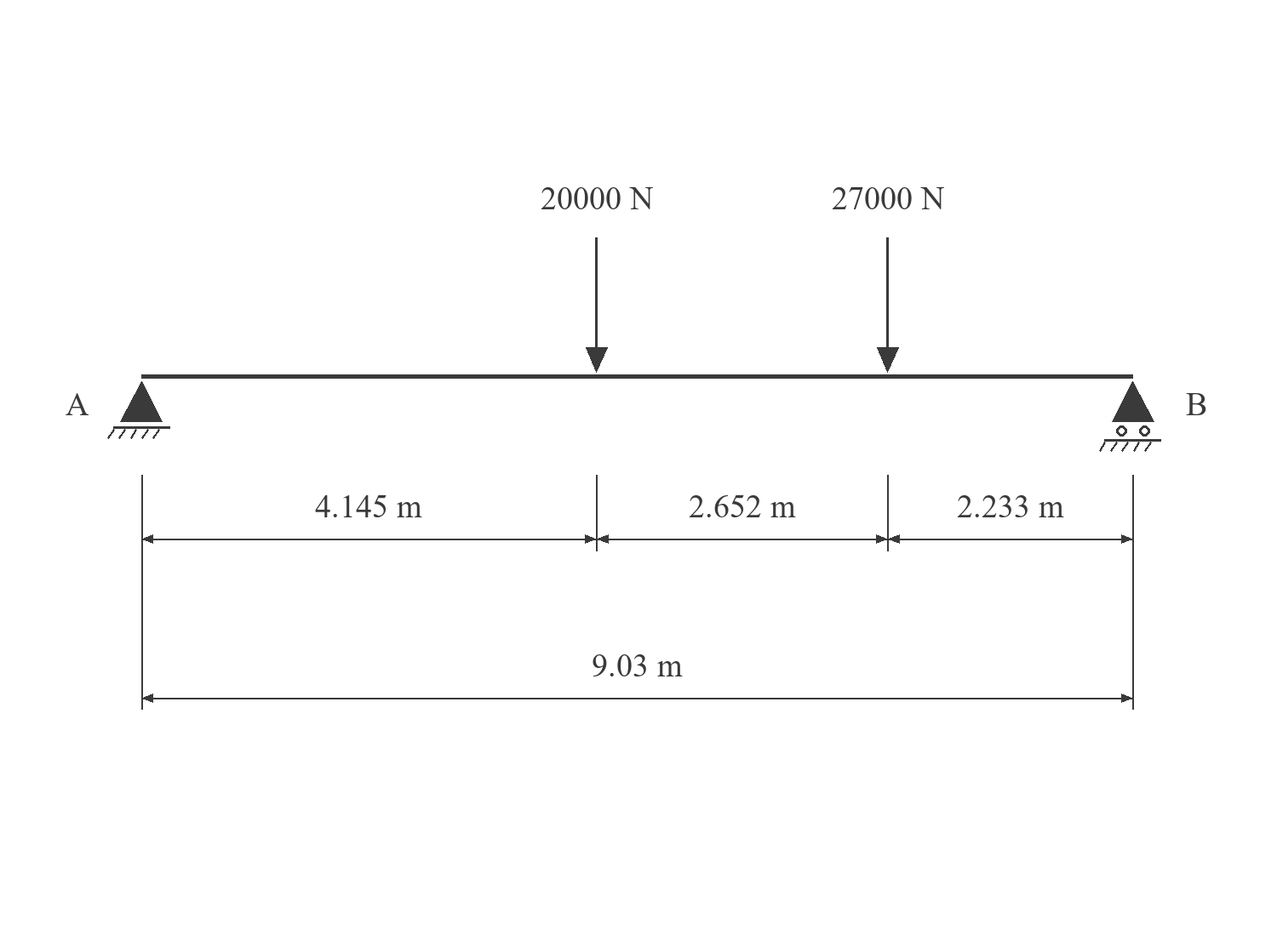pin_support: (107, 381, 170, 439)
point_load: (586, 237, 608, 373), (877, 237, 899, 373)
roller_support: (1099, 381, 1161, 452)
